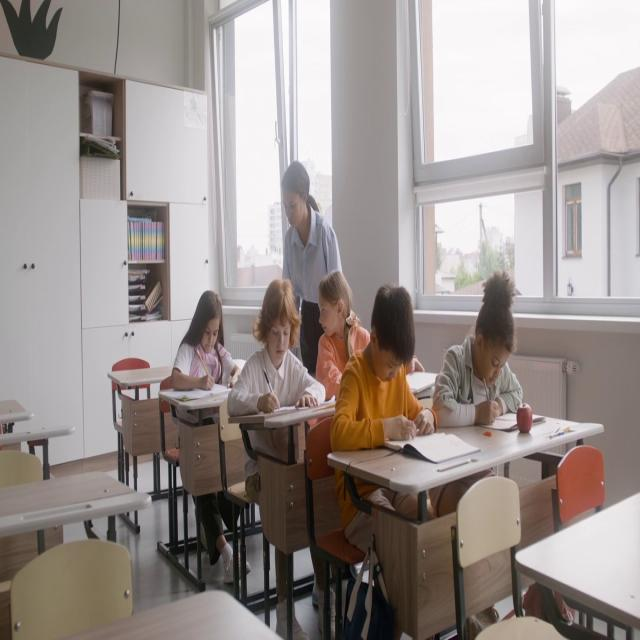reading: (314, 269, 372, 416)
writing: (333, 284, 452, 640), (172, 292, 248, 580), (231, 278, 324, 476), (433, 271, 523, 430)
